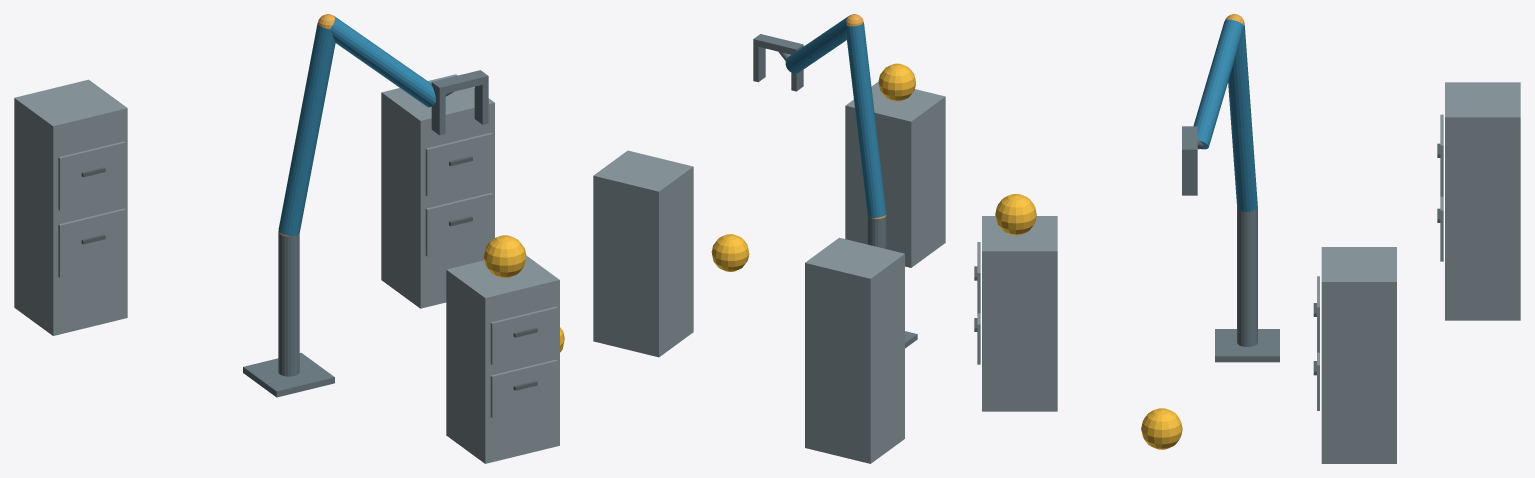
3 renders of one model, left to right at view 1: azimuth 30°, elevation 25°; view 2: azimuth 150°, elevation 25°; view 3: azimuth 270°, elevation 25°, orthographic. The views are drawn at different scales.
Parts seen in each view (by area): view 1: cabinet_3 body, cabinet_1 body, cabinet_2 body, moving link 1, cabinet_3 drawer front.001, cabinet_3 drawer front, cabinet_2 drawer front.001, cabinet_2 drawer front, fixed post, cabinet_1 drawer front, cabinet_1 drawer front.001, moving link 2 (+4 smaller); view 2: cabinet_3 body, cabinet_2 body, cabinet_1 body, moving link 1, moving link 2, ball ball_2, released ball_1, gripper bridge, fixed post, gripper finger 1; view 3: cabinet_3 body, cabinet_2 body, cabinet_1 body, moving link 1, fixed post, moving link 2, pedestal, released ball_1, ball ball_2, gripper finger 1.
Boxes of the visible parts, <box> form: cabinet_3 body: <box>14,79,127,335</box>; cabinet_1 body: <box>446,255,559,463</box>; cabinet_2 body: <box>381,74,494,308</box>; moving link 1: <box>278,22,335,236</box>; cabinet_3 drawer front.001: <box>58,141,125,210</box>; cabinet_3 drawer front: <box>58,208,125,277</box>; cabinet_2 drawer front.001: <box>425,132,492,196</box>; cabinet_2 drawer front: <box>425,192,492,256</box>; fixed post: <box>278,231,299,376</box>; cabinet_1 drawer front: <box>490,359,557,417</box>; cabinet_1 drawer front.001: <box>490,306,557,364</box>; moving link 2: <box>330,16,435,107</box>; cabinet_3 body: <box>805,237,904,463</box>; cabinet_2 body: <box>593,150,693,357</box>; cabinet_1 body: <box>845,81,945,267</box>; moving link 1: <box>846,22,886,217</box>; moving link 2: <box>785,16,848,73</box>; ball ball_2: <box>711,234,749,271</box>; released ball_1: <box>878,63,915,101</box>; gripper bridge: <box>753,34,803,54</box>; fixed post: <box>867,216,886,248</box>; gripper finger 1: <box>753,45,765,82</box>; cabinet_3 body: <box>1445,82,1520,320</box>; cabinet_2 body: <box>1321,247,1396,463</box>; cabinet_1 body: <box>982,216,1057,411</box>; moving link 1: <box>1228,24,1257,211</box>; fixed post: <box>1237,207,1257,346</box>; moving link 2: <box>1193,19,1243,149</box>; pedestal: <box>1215,329,1279,362</box>; released ball_1: <box>995,194,1036,235</box>; ball ball_2: <box>1141,408,1182,449</box>; gripper finger 1: <box>1182,156,1197,195</box>.
Bounding box in the file's own units: 1.62 × 1.48 × 2.1.
